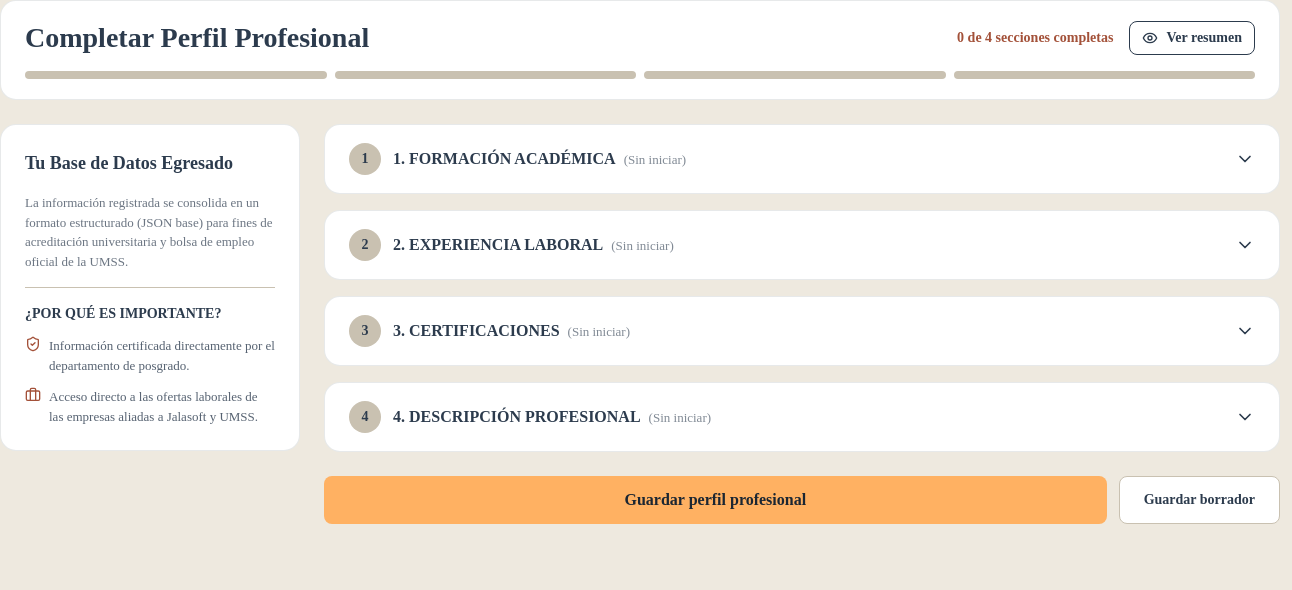
Scenario: Completar perfil · guardar experiencia laboral en la API › 400: muestra el mensaje del backend, no agrega y no limpia
The width and height of the screenshot is (1292, 590).
Click the button "2 2. Experiencia laboral (Sin iniciar)" at coordinates (365, 245), box x1=325 y1=211 x2=1279 y2=279
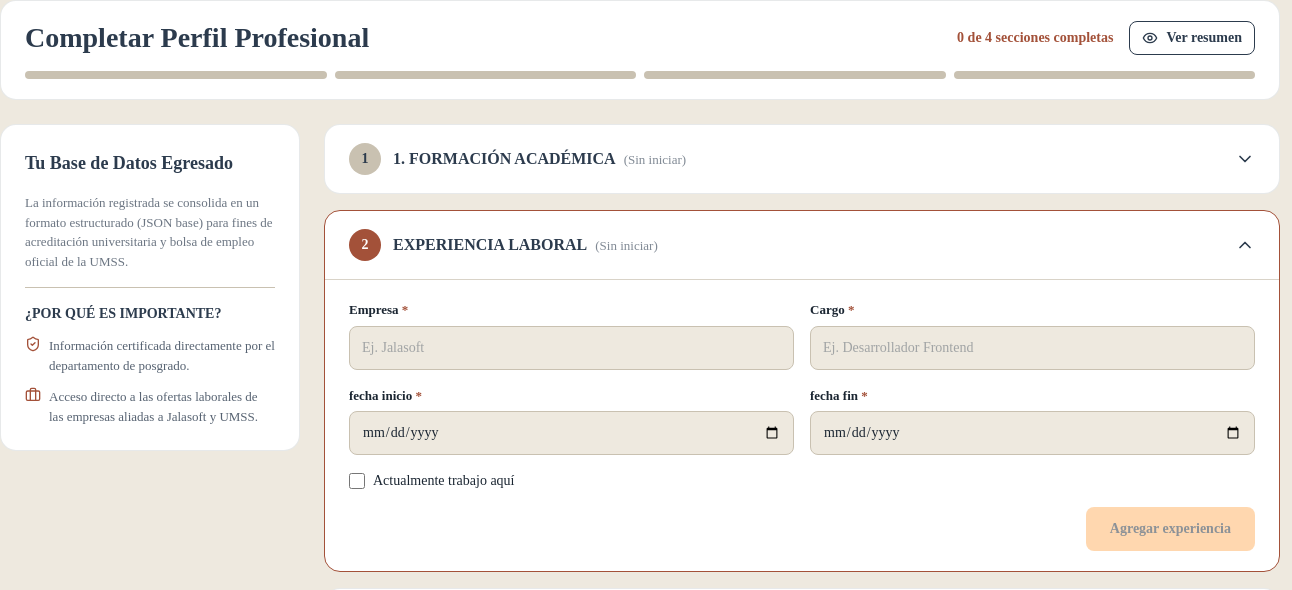
Type "Jalasoft" into the field with placeholder "Ej. Jalasoft" at coordinates (572, 348), box x1=349 y1=326 x2=794 y2=370
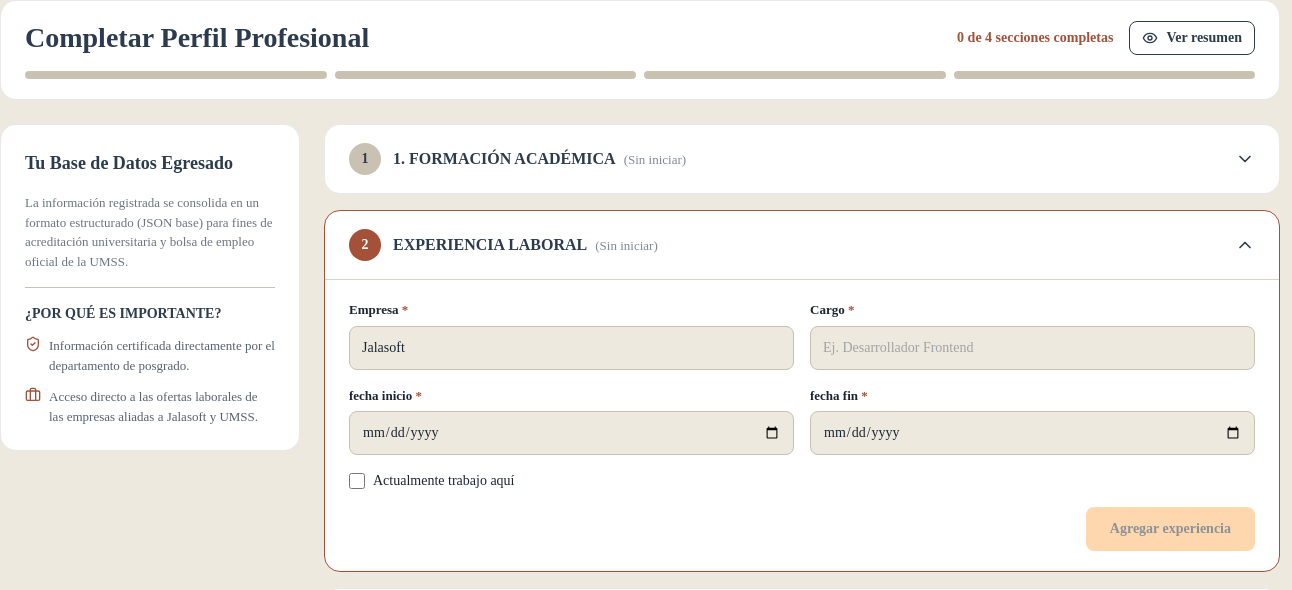
Type "Dev" into the field with placeholder "Ej. Desarrollador Frontend" at coordinates (1032, 348), box x1=810 y1=326 x2=1255 y2=370
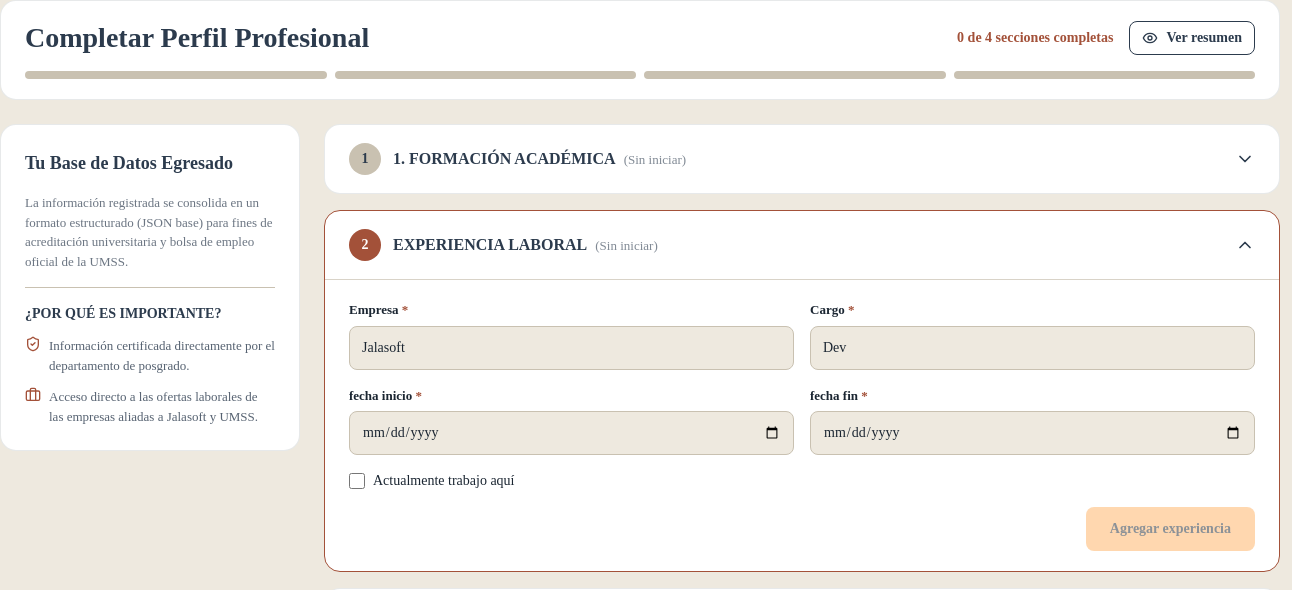
Type "2023-08-01" into the date field labelled "fecha inicio *" at coordinates (572, 433), box x1=349 y1=411 x2=794 y2=455
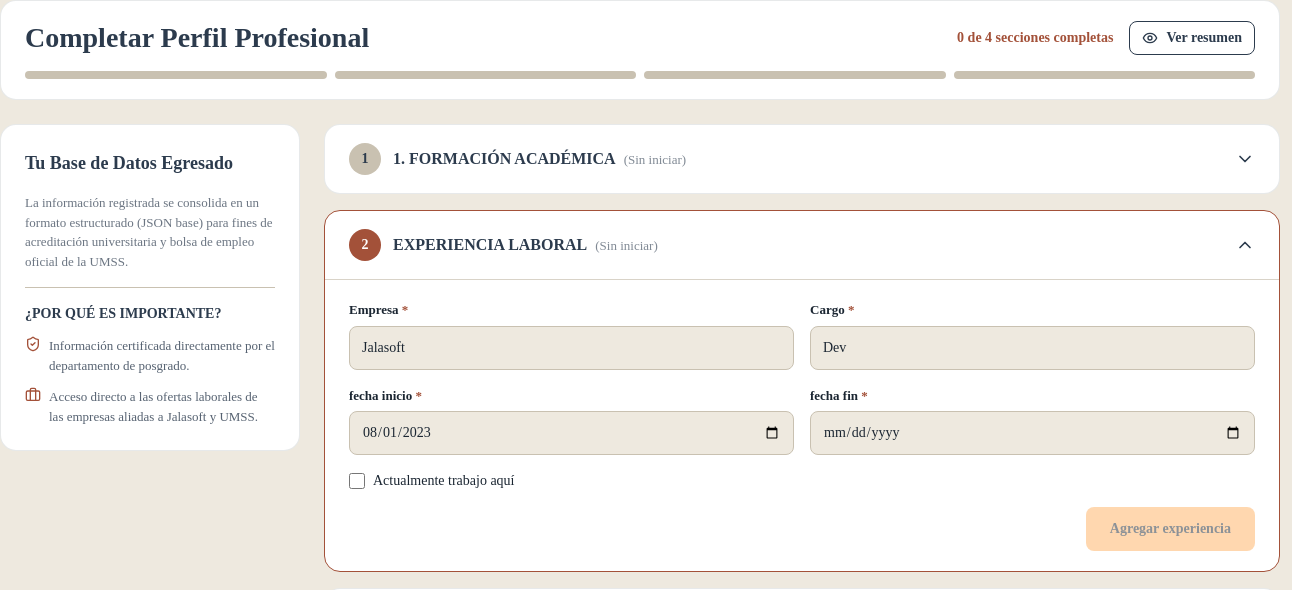
Click the checkbox labelled "Actualmente trabajo aquí" at coordinates (357, 481), box x1=349 y1=473 x2=365 y2=489
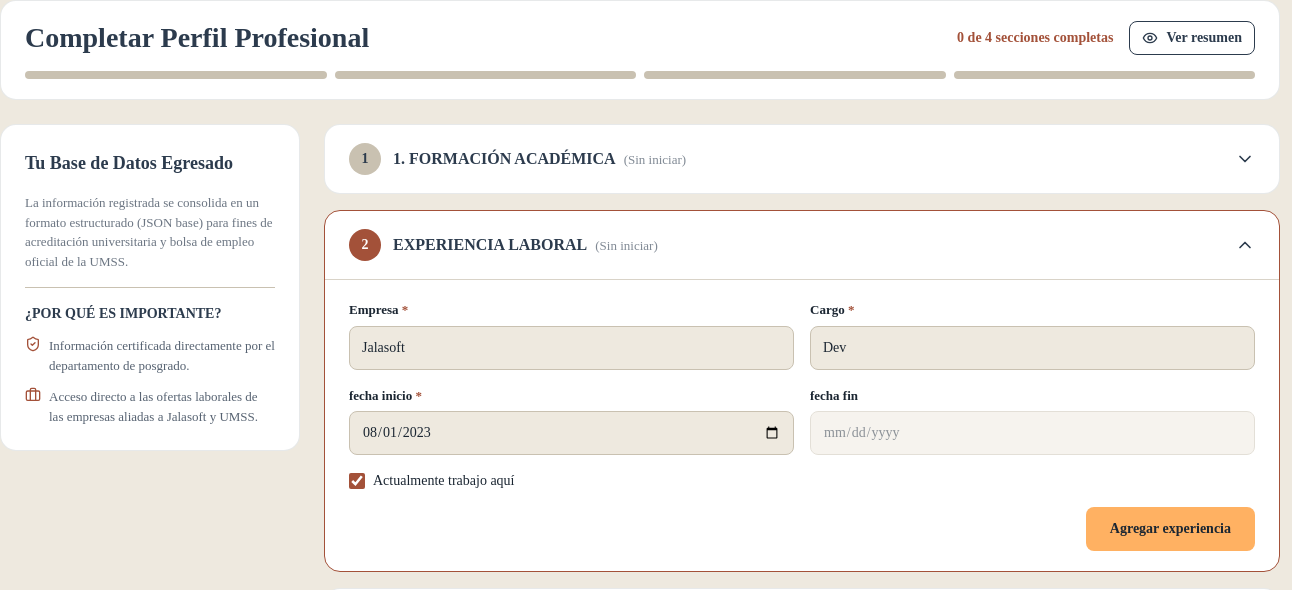
Click the button "Agregar experiencia" at coordinates (1170, 529), box x1=1086 y1=507 x2=1255 y2=551
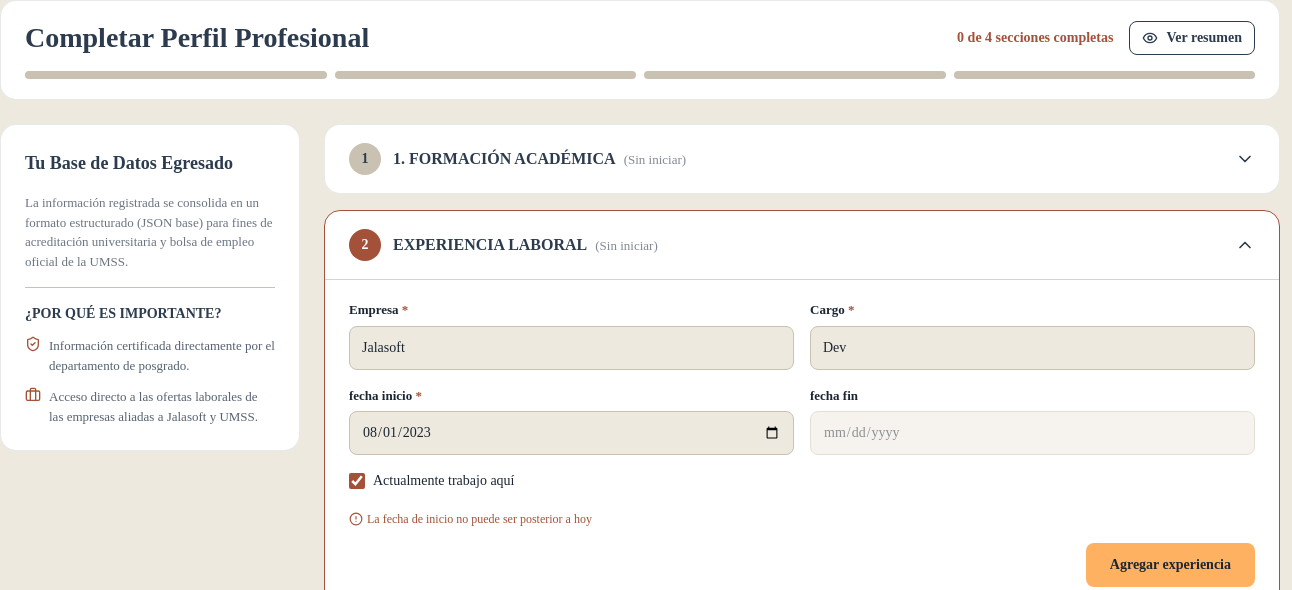
Check: the text "La fecha de inicio no puede ser posterior a hoy" is shown, box x1=349 y1=512 x2=592 y2=526
